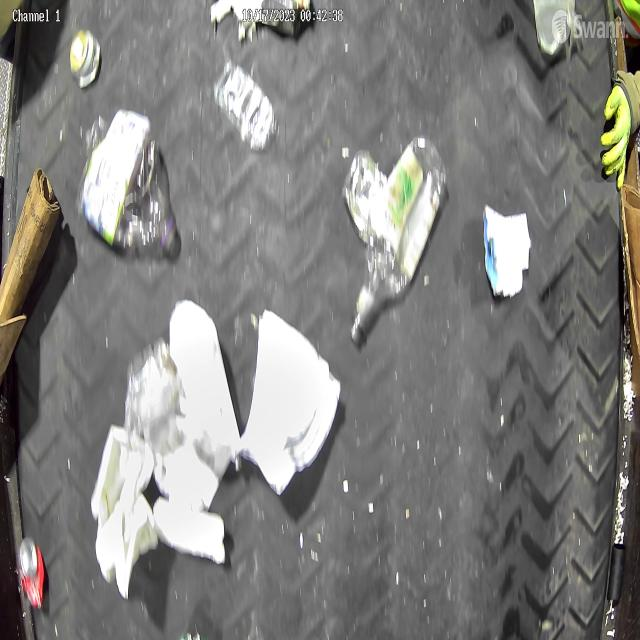can: (342, 150, 388, 243), (534, 0, 574, 62), (70, 30, 103, 89), (19, 538, 45, 610)
plastic_bottle: (349, 134, 448, 342), (80, 112, 179, 257)
